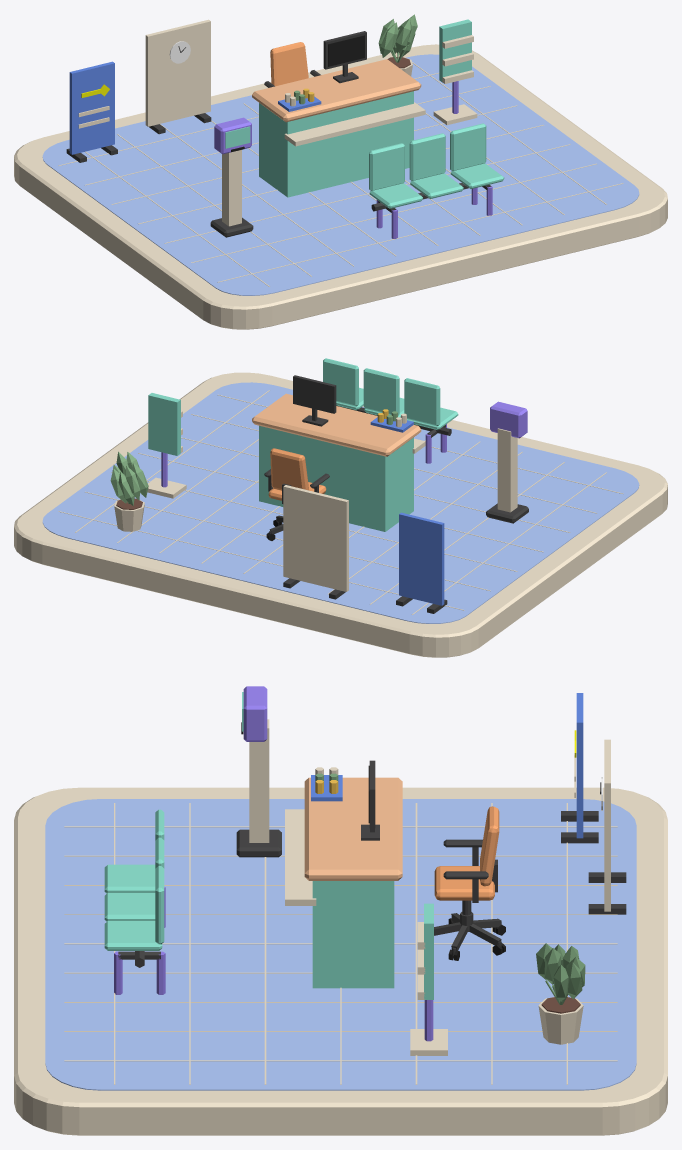
The model's file is room.fbx.
The picture shows the model from 3 angles, top to bottom: view 1: azimuth 30°, elevation 25°; view 2: azimuth 150°, elevation 25°; view 3: azimuth 270°, elevation 25°; orthographic projection. The views are drawn at different scales.
Visible parts, largest first — view 1: COM-02 Floor Surface, COM-01 Rounded Base Direct, Counter body, Panel.001, Countertop, Panel, Visitor shelf, Frame, Back.001, Back.002, COM-04_Chair_blender_direct, Back (+11 smaller); view 2: COM-02 Floor Surface, COM-01 Rounded Base Direct, Counter body, Panel.001, Countertop, Panel, Pot, COM-04_Chair_blender_direct, Pedestal, Frame, Back, Back.001 (+7 smaller); view 3: COM-02 Floor Surface, COM-01 Rounded Base Direct, Countertop, Counter body, COM-04_Chair_blender_direct, Pot, Pedestal, Visitor shelf, Seat.002, Seat, Seat.001, Display housing (+13 smaller).
Boxes of the visible parts, <box> form: COM-02 Floor Surface: <box>42,54,639,295</box>; COM-01 Rounded Base Direct: <box>14,44,667,329</box>; Counter body: <box>259,91,413,197</box>; Panel.001: <box>145,19,210,126</box>; Countertop: <box>252,59,421,122</box>; Panel: <box>69,61,114,154</box>; Visitor shelf: <box>284,102,425,146</box>; Frame: <box>323,31,366,83</box>; Back.001: <box>409,133,445,180</box>; Back.002: <box>450,123,486,170</box>; COM-04_Chair_blender_direct: <box>264,42,320,87</box>; Back: <box>369,143,404,190</box>; COM-02 Floor Surface: <box>42,382,639,623</box>; COM-01 Rounded Base Direct: <box>14,372,667,657</box>; Counter body: <box>259,425,413,531</box>; Panel.001: <box>283,485,348,591</box>; Countertop: <box>252,393,421,456</box>; Panel: <box>399,512,444,605</box>; Pot: <box>110,451,148,531</box>; COM-04_Chair_blender_direct: <box>264,448,329,540</box>; Pedestal: <box>497,428,517,512</box>; Frame: <box>293,375,336,426</box>; Back: <box>404,378,440,426</box>; Back.001: <box>363,368,399,415</box>; COM-02 Floor Surface: <box>45,799,636,1090</box>; COM-01 Rounded Base Direct: <box>14,787,667,1135</box>; Countertop: <box>304,777,402,880</box>; Counter body: <box>312,881,394,988</box>; COM-04_Chair_blender_direct: <box>434,806,505,960</box>; Pot: <box>536,943,585,1044</box>; Pedestal: <box>249,719,269,842</box>; Visitor shelf: <box>285,809,316,905</box>; Seat.002: <box>104,921,162,950</box>; Seat: <box>104,864,155,893</box>; Seat.001: <box>104,893,155,921</box>; Display housing: <box>243,686,267,741</box>.
Bounding box in the file's own units: 600 × 187 × 520.
